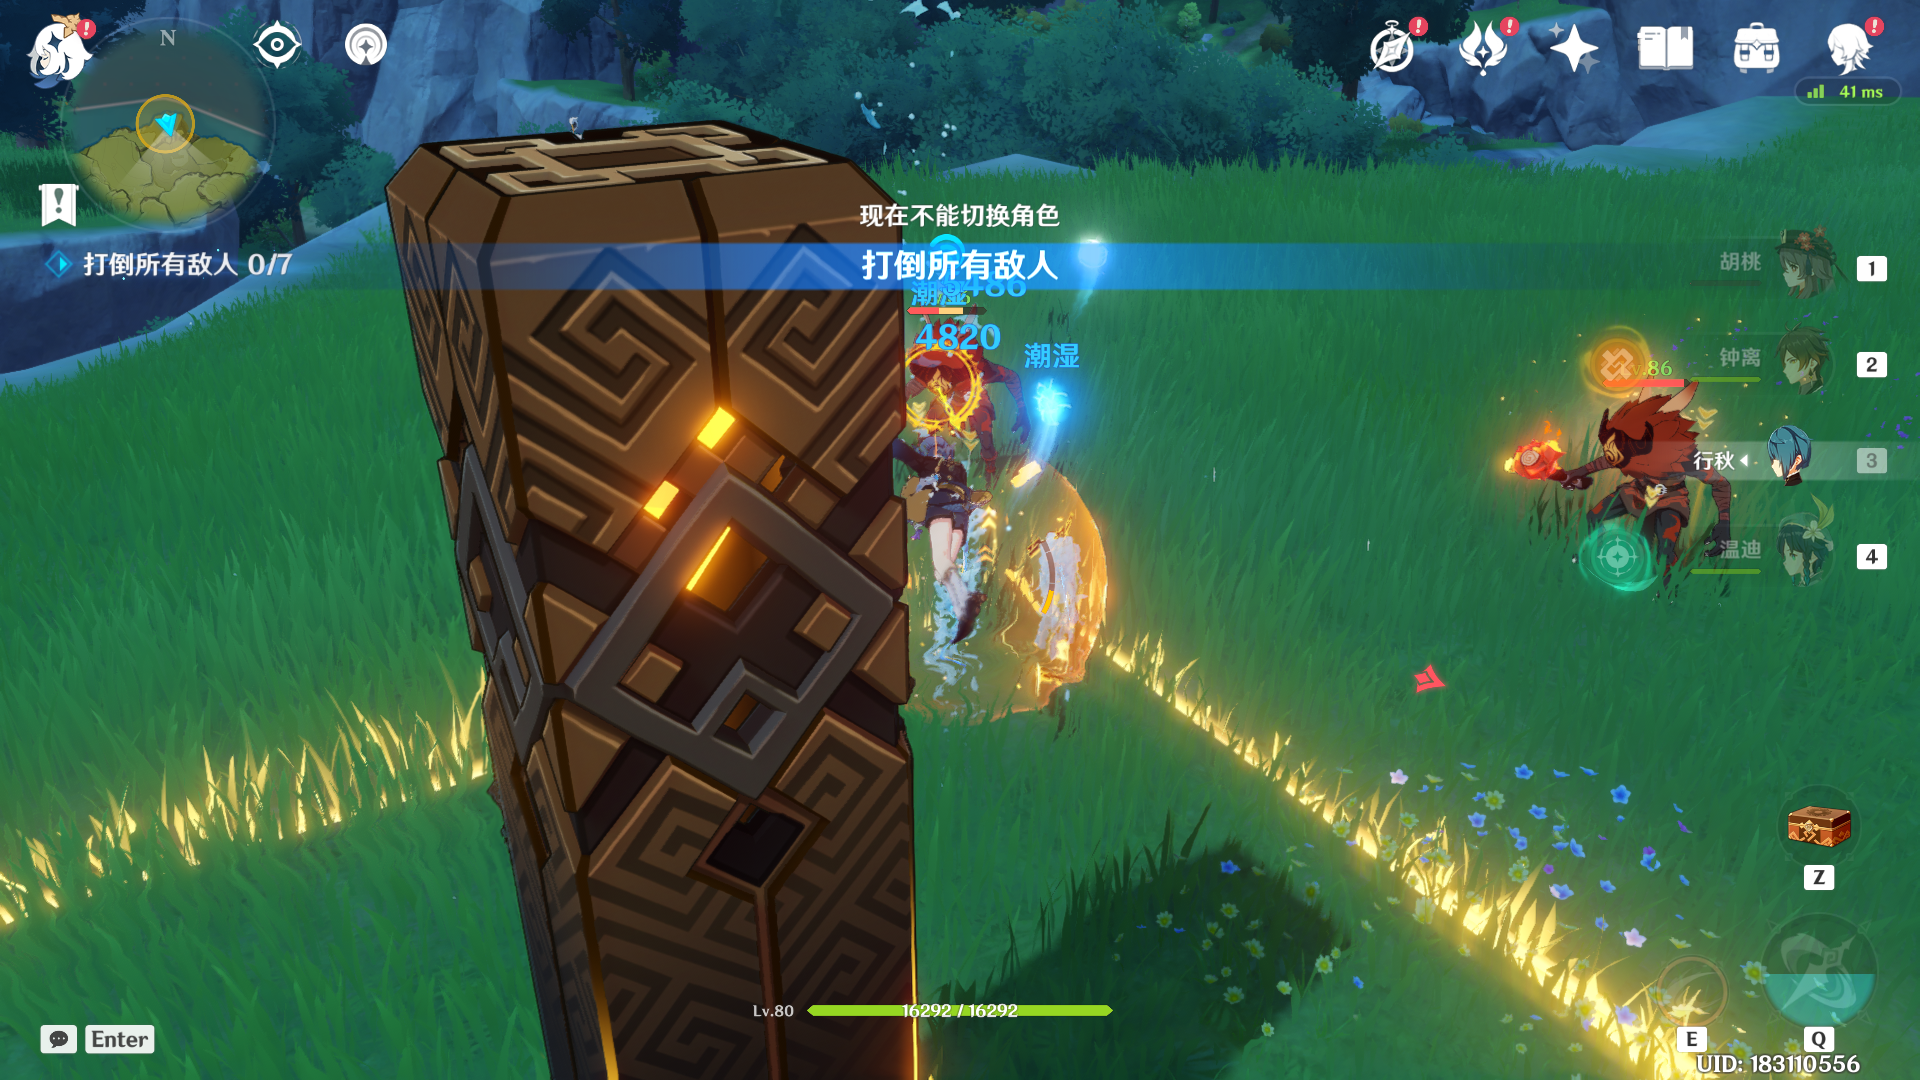character: (833, 389, 1034, 667)
hili: (1536, 313, 1751, 596), (865, 284, 1047, 509)
